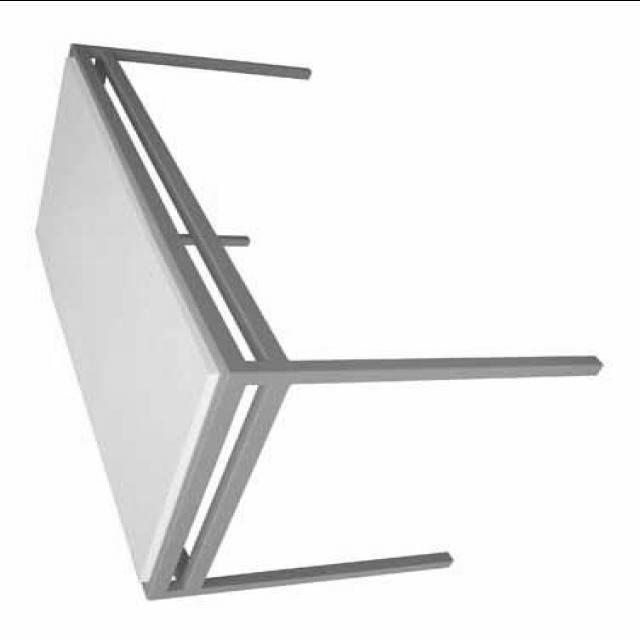table: (33, 41, 599, 598)
